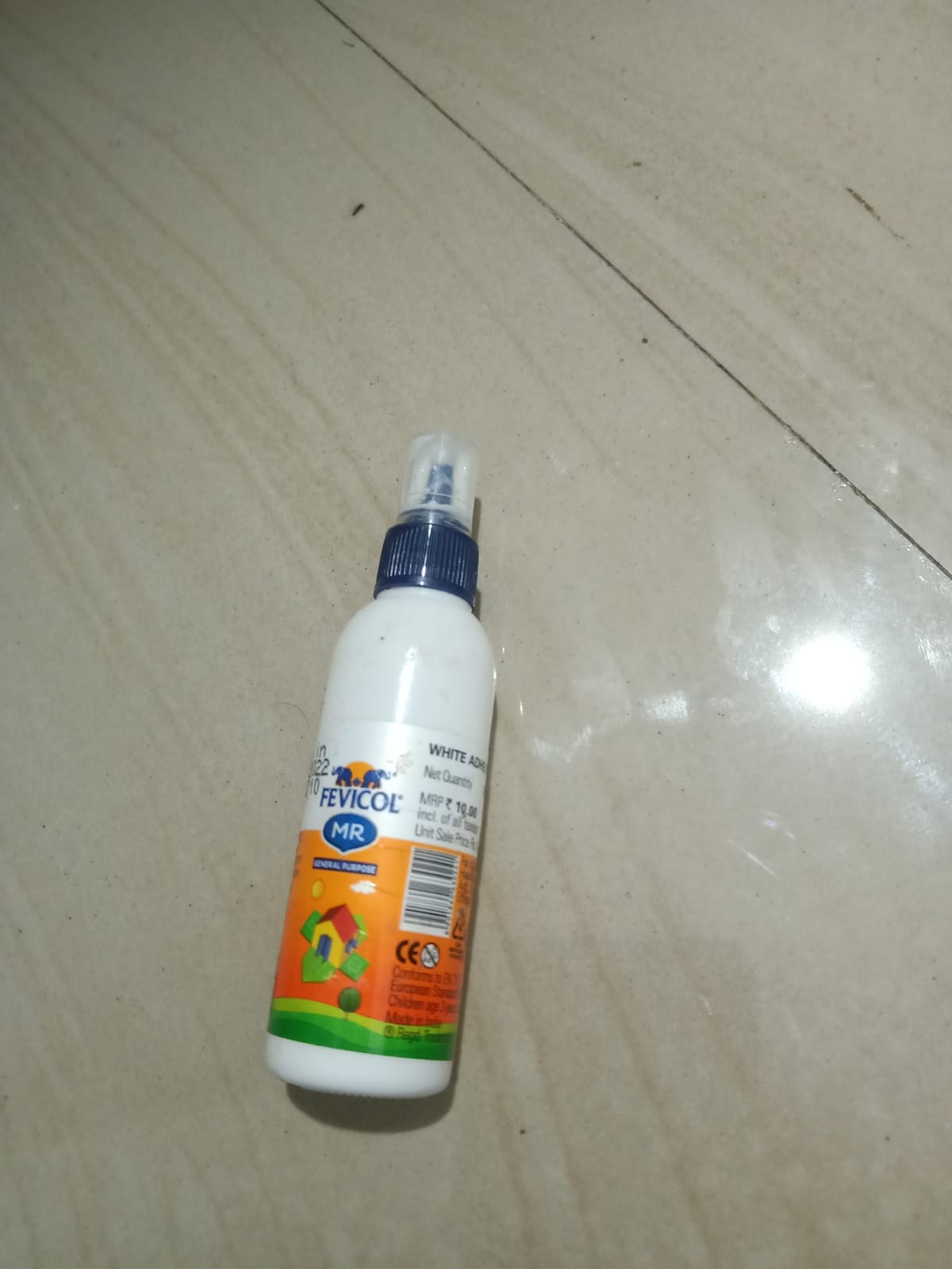plastic: (244, 421, 562, 1176)
